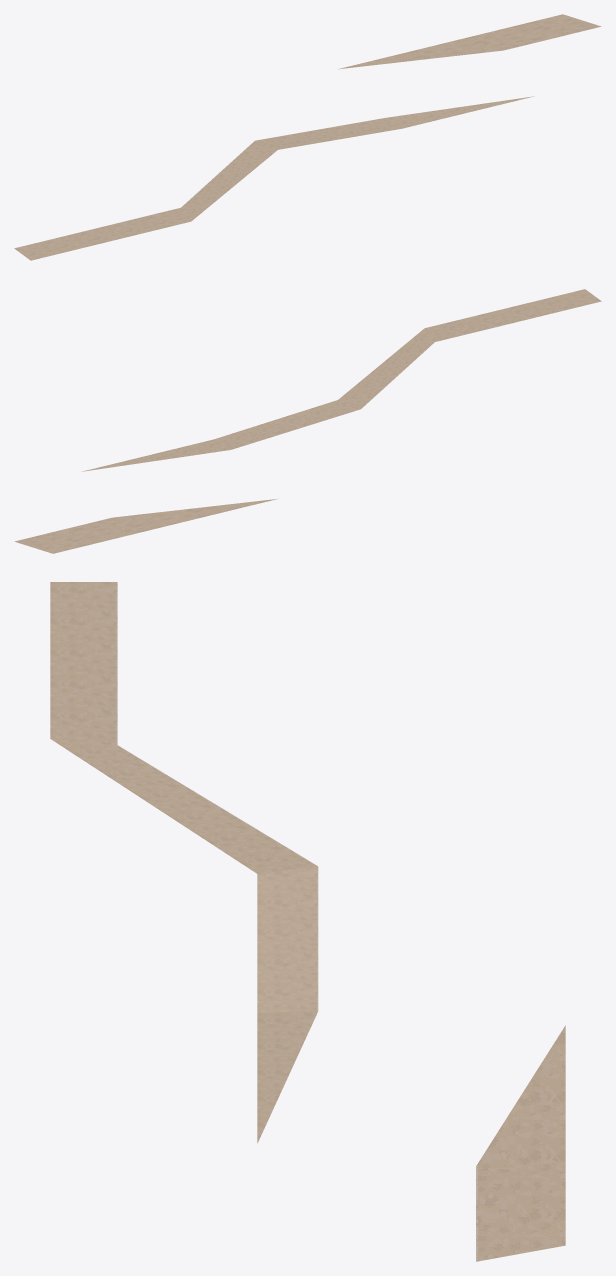
The model's file is kd_connection_town-ground_surface_1_53.glb.
3 views of the same model, one above another, from view 1: azimuth 30°, elevation 25°; view 2: azimuth 210°, elevation 25°; view 3: azimuth 270°, elevation 25° (orthographic). The views are drawn at different scales.
Parts seen in each view (by area): view 1: kd_connection_town-ground_surface_1_53; view 2: kd_connection_town-ground_surface_1_53; view 3: kd_connection_town-ground_surface_1_53.
Part boxes in pixels (x1,y1,x2,y2): kd_connection_town-ground_surface_1_53: (14,14,601,260); kd_connection_town-ground_surface_1_53: (14,289,601,553); kd_connection_town-ground_surface_1_53: (50,582,565,1261).
Bounding box in the file's own units: 23.22 × 0.3 × 7.65.
Materials: 1 (1 with a texture image).
